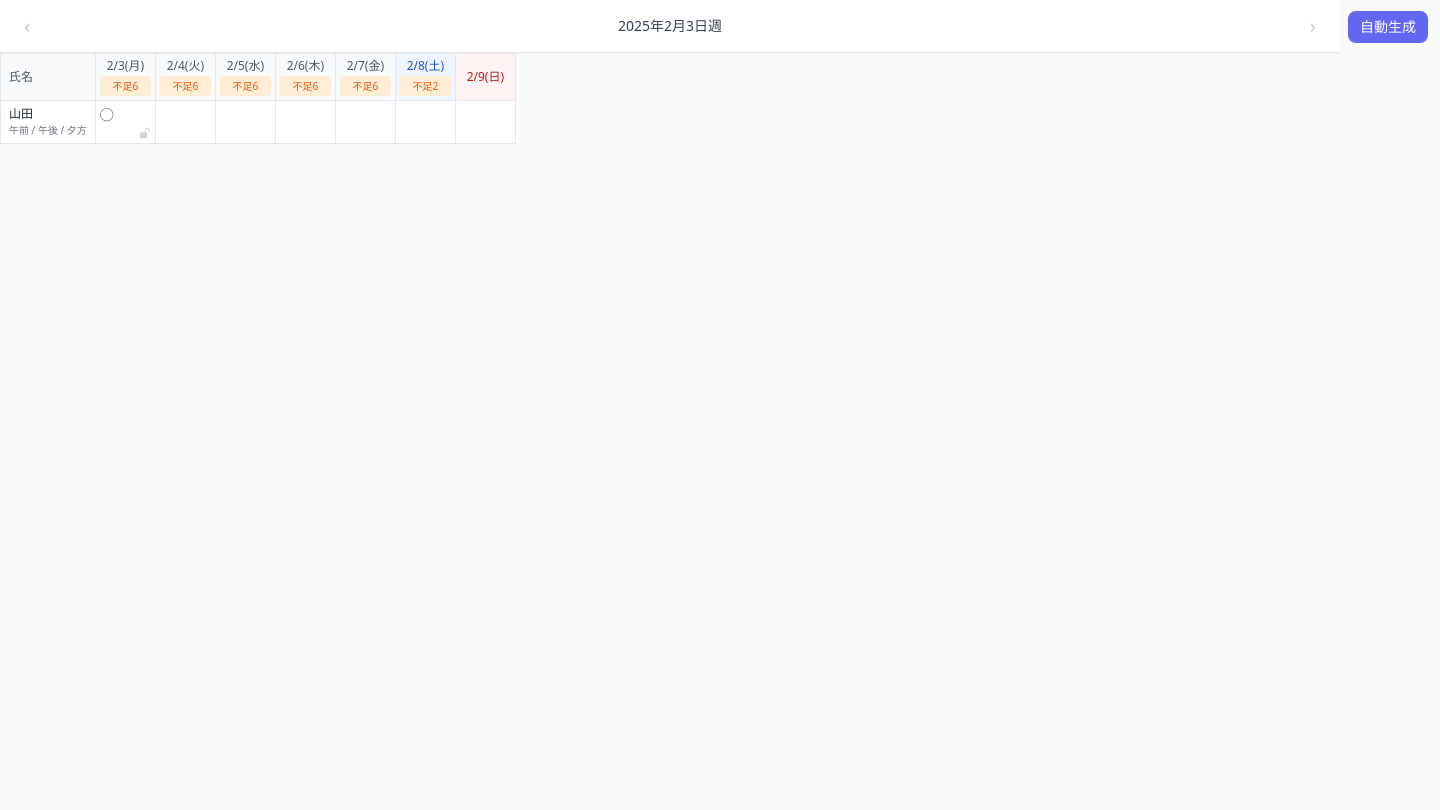
Test: ShiftPage › 上書き確認ダイアログ › 既存アサインがある状態で自動生成ボタンを押すと確認ダイアログが表示される
Click the button "自動生成" at coordinates (1388, 26), box [1348,10,1428,42]
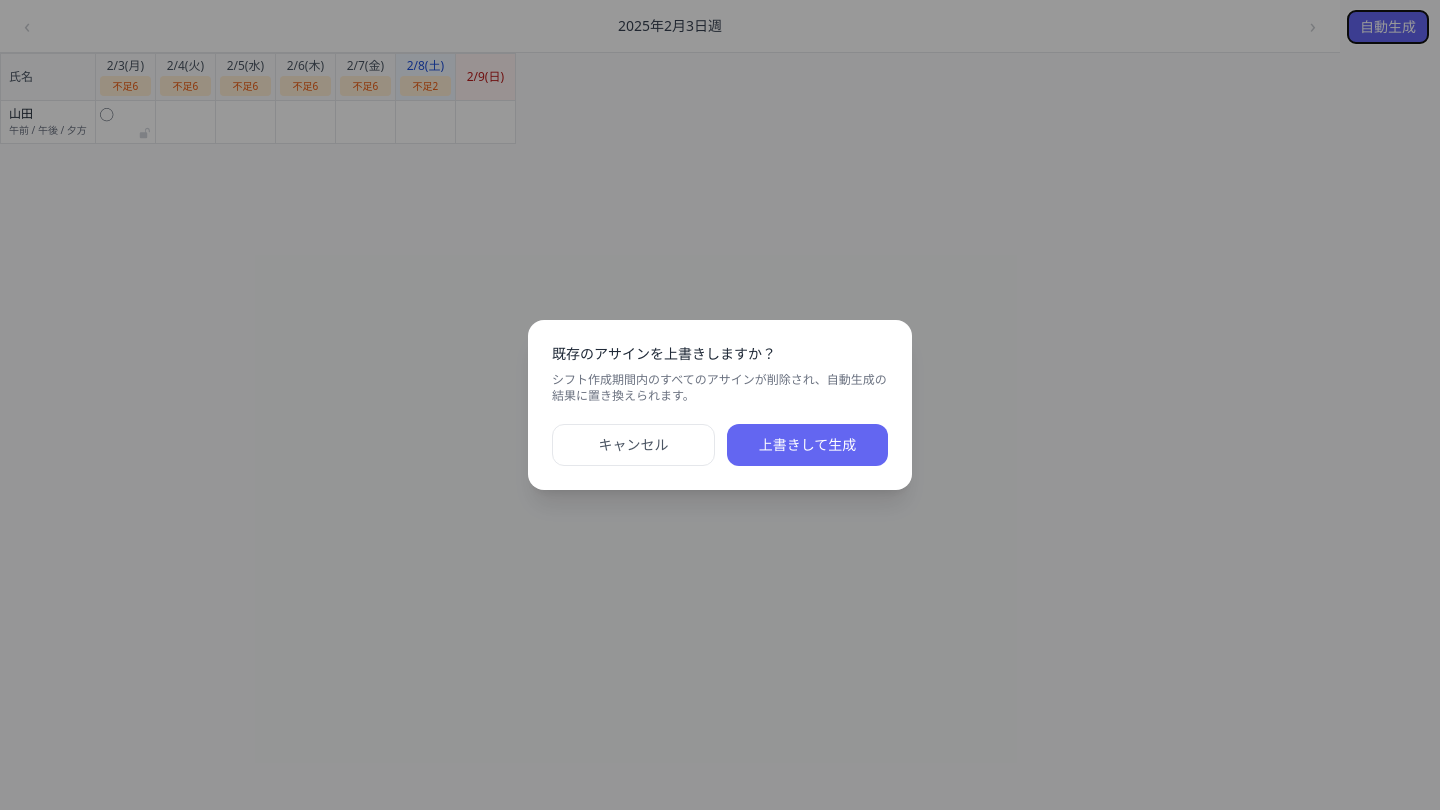
Result: the dialog is shown
